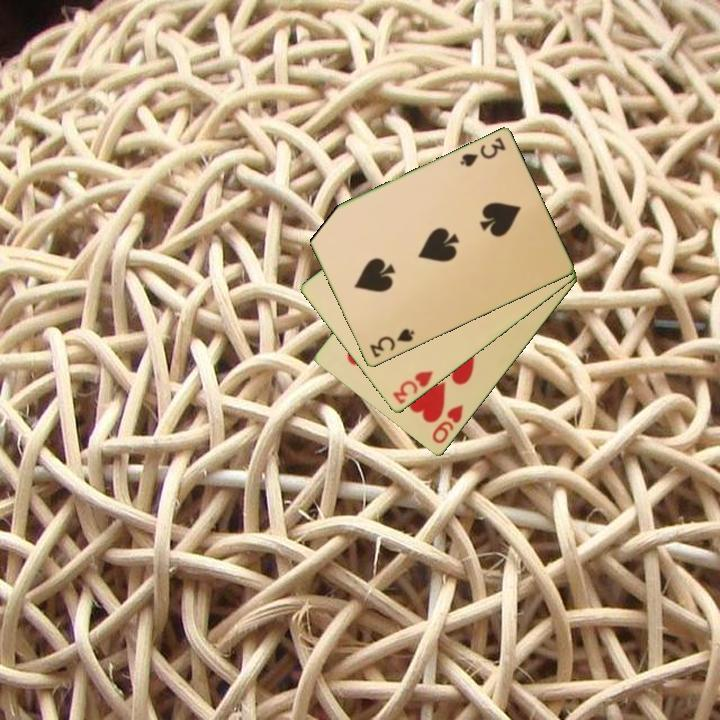3h: (389, 367, 436, 407)
3s: (456, 134, 509, 170), (366, 325, 417, 361)
9h: (428, 401, 466, 447)
